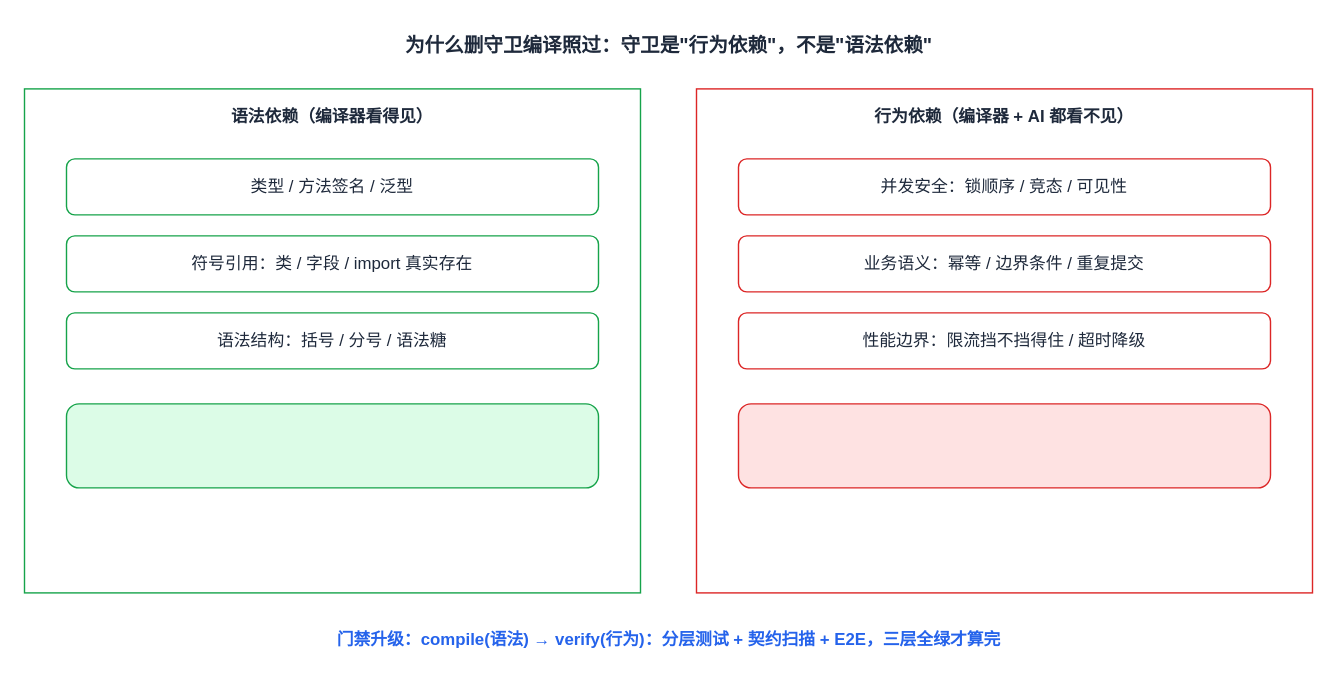
Image size: 1337x700. Some labels were removed from this diagram. The centre of each missing label's shape, as x and y in pixels:
"删了 → 悬空调用 / 未使用变量 / 类型错 编译器立刻红" belongs at point (331, 445).
"删了 → 编译绿、单测绿、本地联调绿 潜伏期数天~数周，压测/大促才爆" belongs at point (1003, 445).
